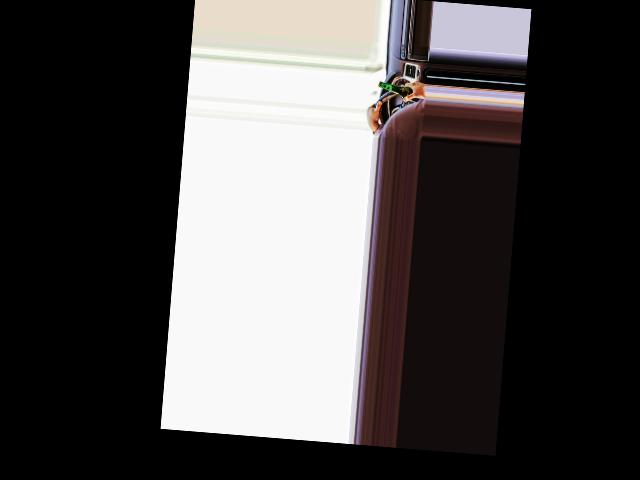beer: (377, 80, 425, 104)
